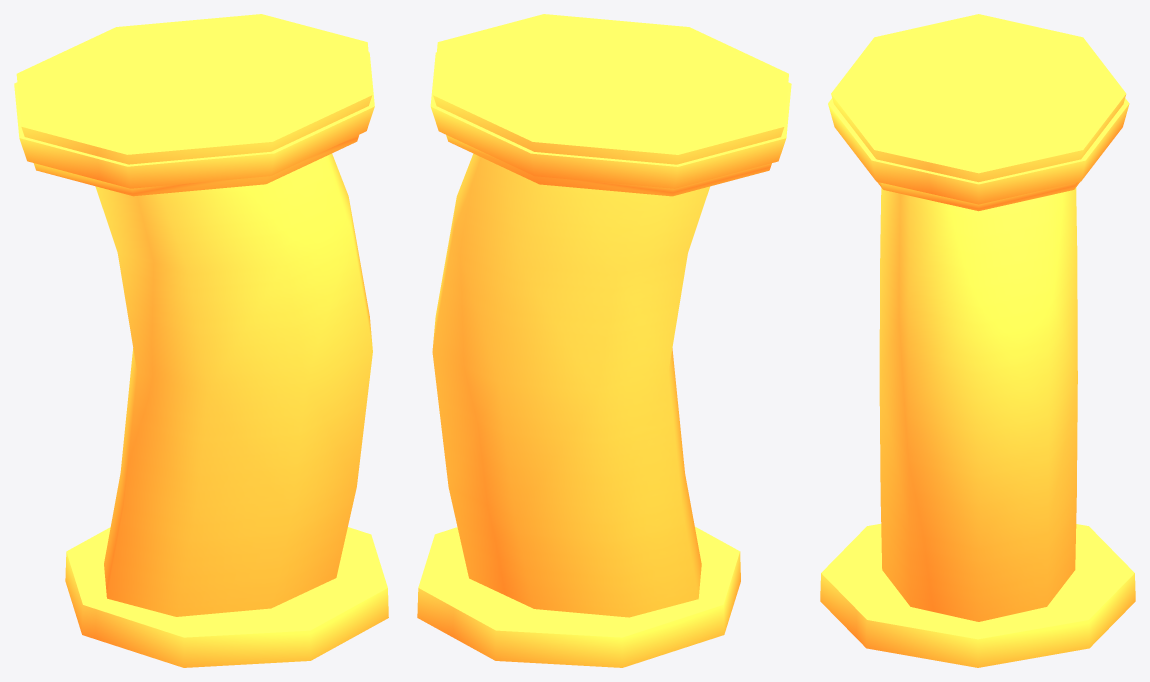
Rendered from gold_grip_020.glb.
3 views of the same model, side by side, from view 1: azimuth 30°, elevation 25°; view 2: azimuth 150°, elevation 25°; view 3: azimuth 270°, elevation 25° (orthographic). The views are drawn at different scales.
Visible parts, largest first — view 1: gold_grip_020; view 2: gold_grip_020; view 3: gold_grip_020.
Part boxes in pixels (x1=…): gold_grip_020: x1=14, y1=14, x2=388, y2=667; gold_grip_020: x1=417, y1=14, x2=791, y2=667; gold_grip_020: x1=820, y1=14, x2=1135, y2=667.
Size of the model in its own units: 2.48 by 3.51 by 2.04.
Materials: 1 (1 with a texture image).
